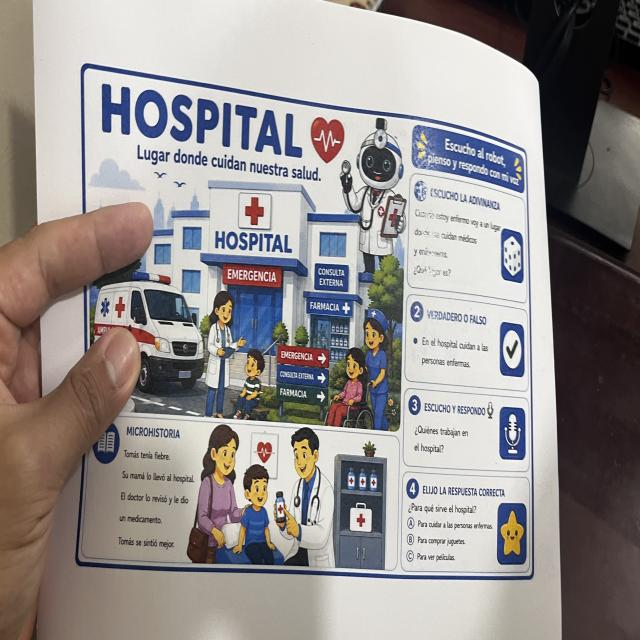hospital: (72, 58, 536, 584)
